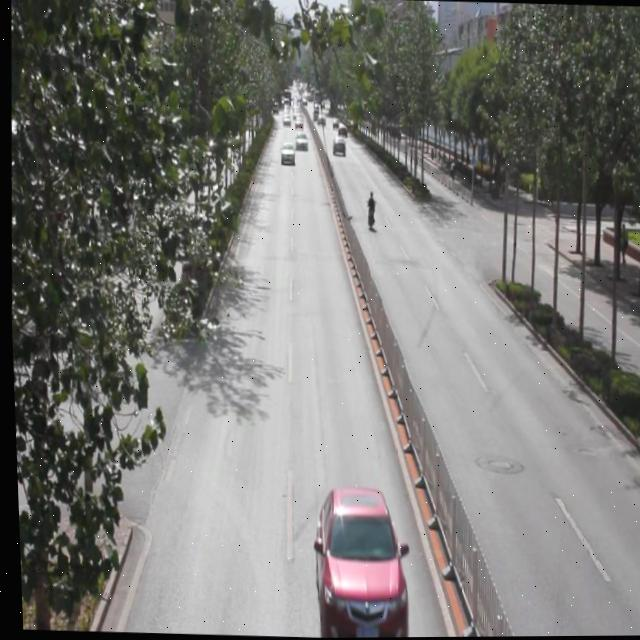car: (305, 479, 406, 637), (277, 142, 293, 164), (291, 131, 307, 151), (329, 135, 344, 155)
